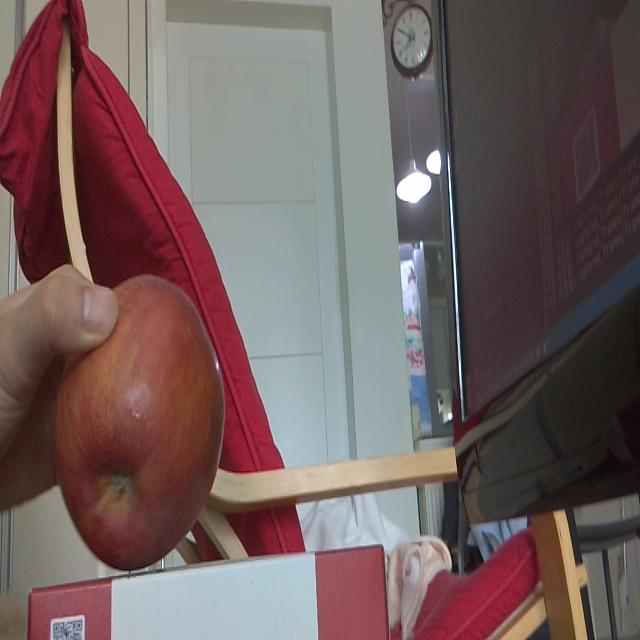apple: (49, 272, 225, 580)
